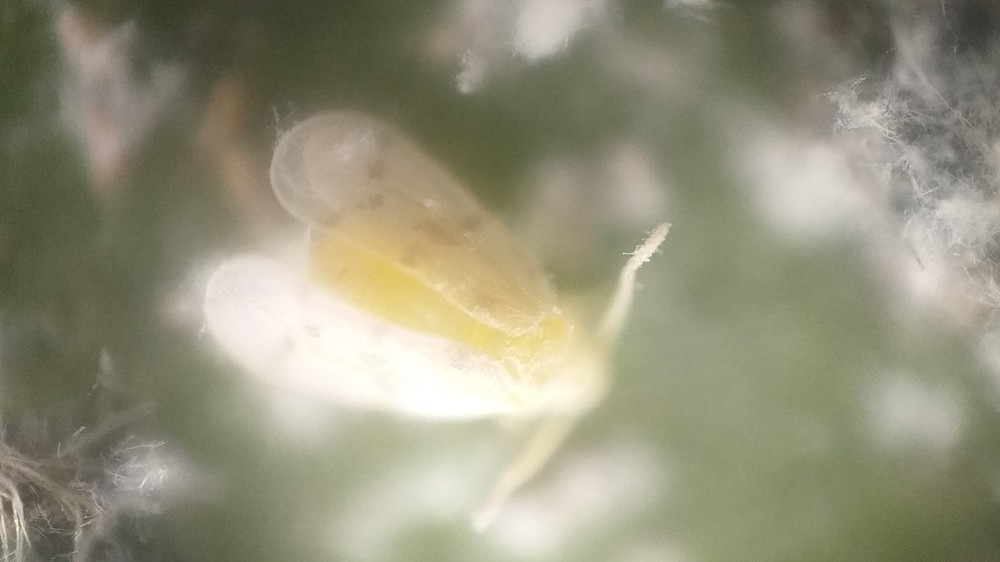Mosca Blanca: (197, 103, 679, 542)
